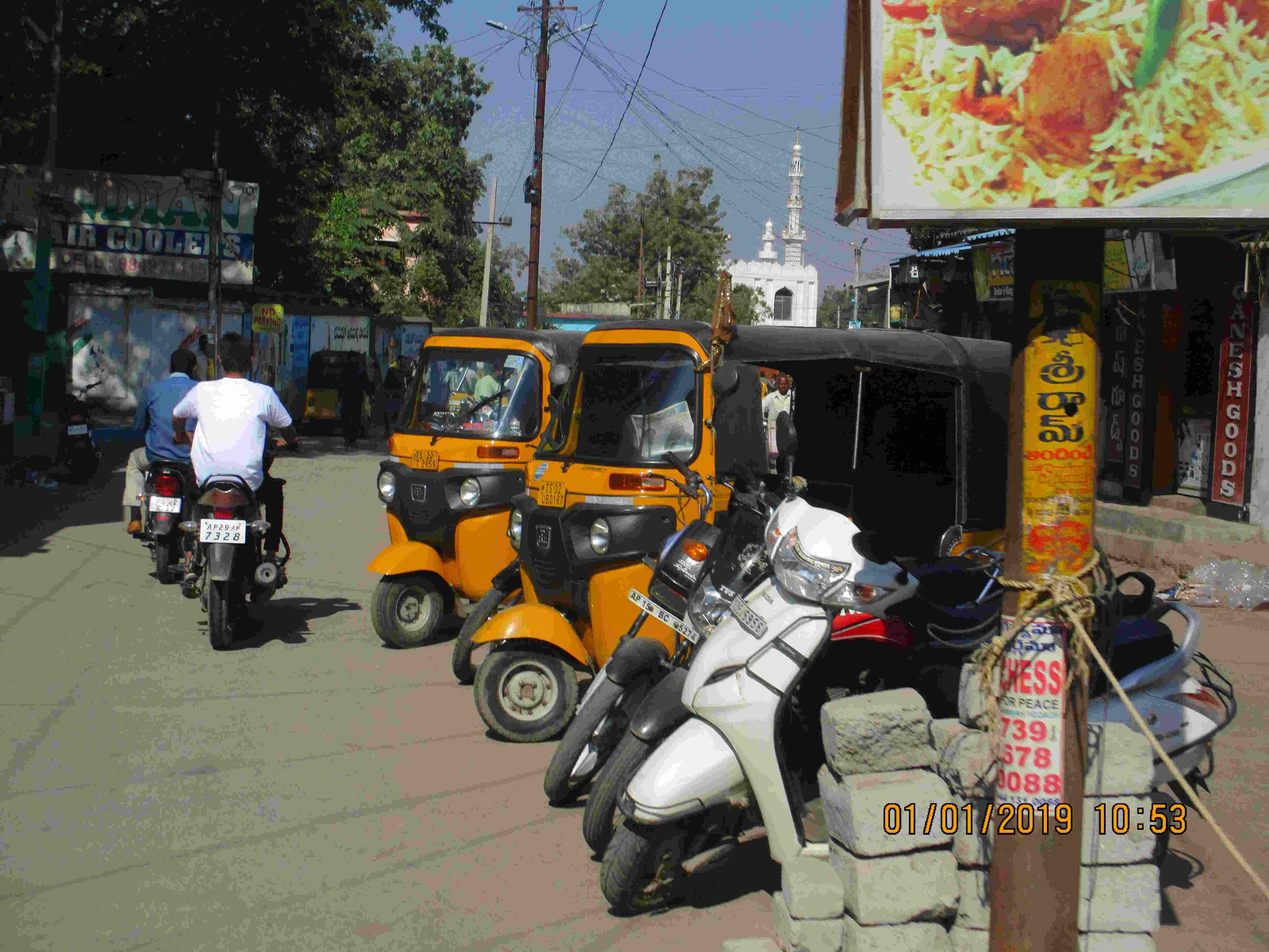plate: (621, 583, 717, 653), (200, 509, 252, 544), (143, 490, 187, 521)
